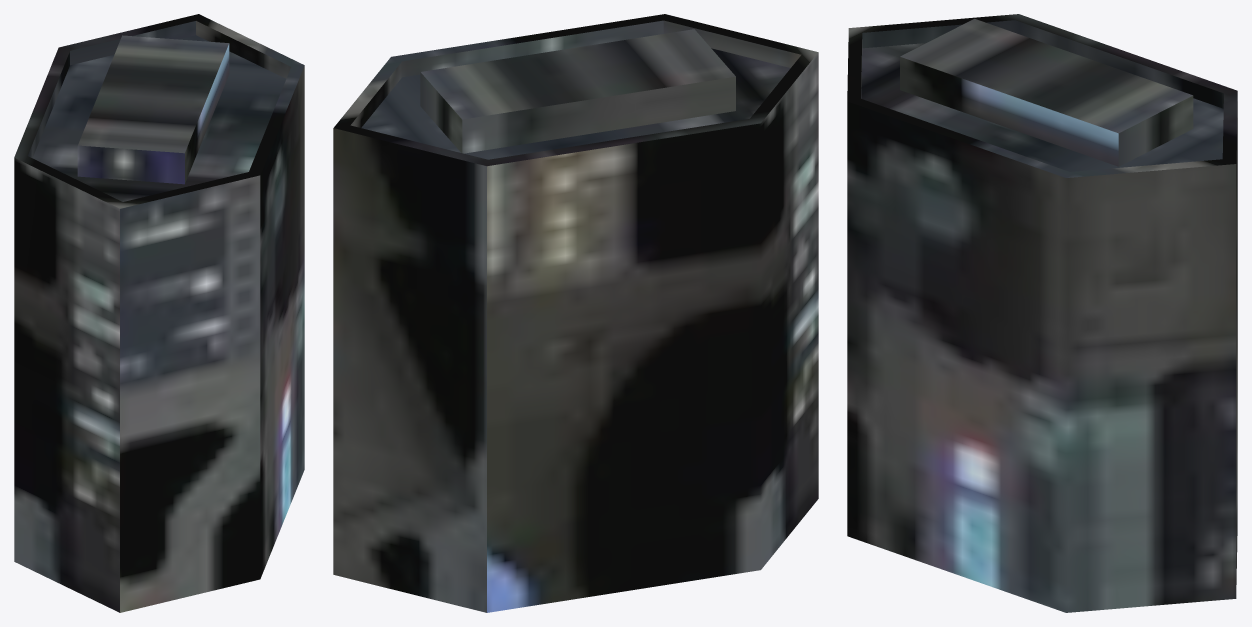
File: night-12.glb
The picture shows the model from 3 angles, left to right: view 1: azimuth 30°, elevation 25°; view 2: azimuth 150°, elevation 25°; view 3: azimuth 270°, elevation 25°; orthographic projection. The views are drawn at different scales.
Bounding box in the file's own units: 3.77 × 4.84 × 3.79.
1 material, 1 textured.
